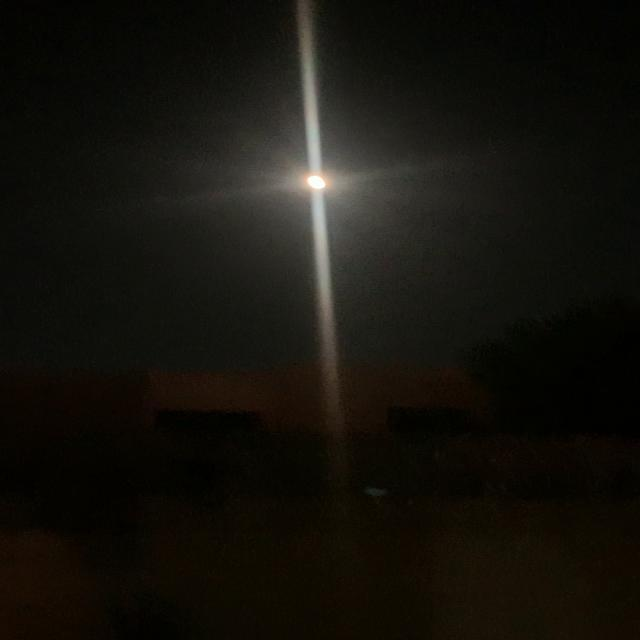moon: (281, 165, 345, 198)
